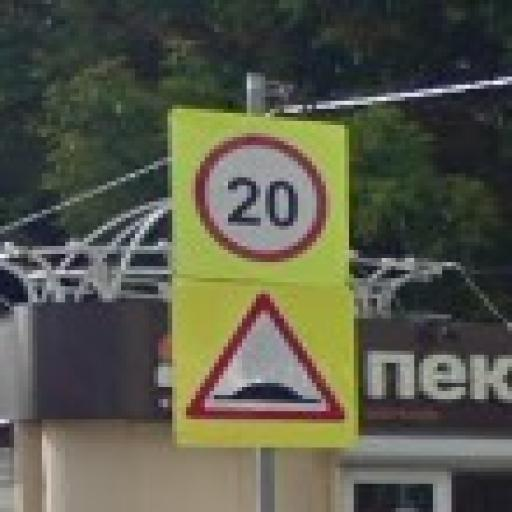traffic_sign: (183, 288, 350, 425), (197, 134, 332, 267)
